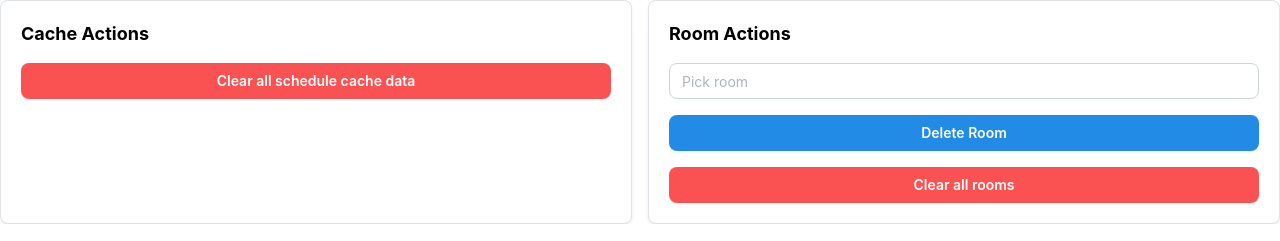
AdminDashboard › logged in - check clear buttons
The image size is (1280, 241).
Expected: the heading "Cache Actions" is shown, 21,23 -> 149,44
Click the button "Clear all schedule cache data": (316, 81) 21,63 -> 611,99
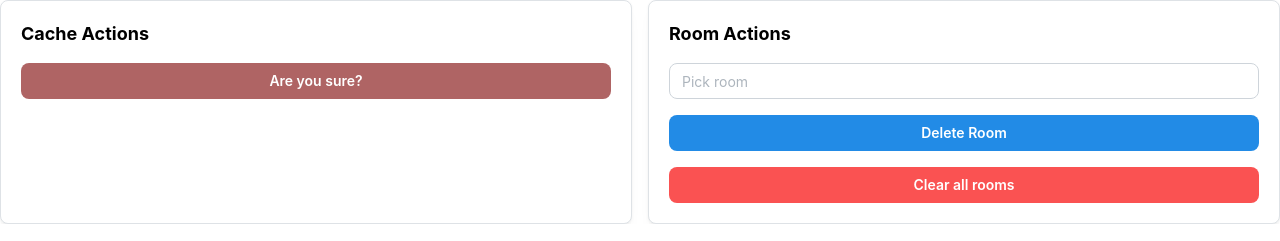
Expected: the button "Are you sure?" is shown
Click the button "Are you sure?": (316, 81) 21,63 -> 611,99
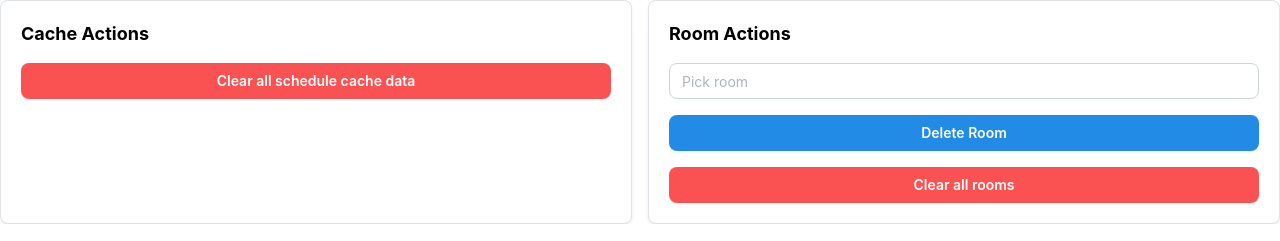
Expected: the button "Clear all schedule cache data" is shown, 21,63 -> 611,99
Click the button "Clear all rooms": (964, 185) 669,167 -> 1259,203
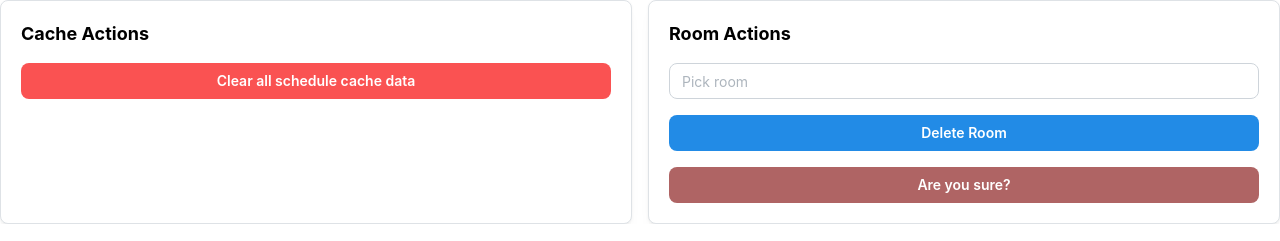
Expected: the button "Are you sure?" is shown
Click the button "Are you sure?": (964, 185) 669,167 -> 1259,203
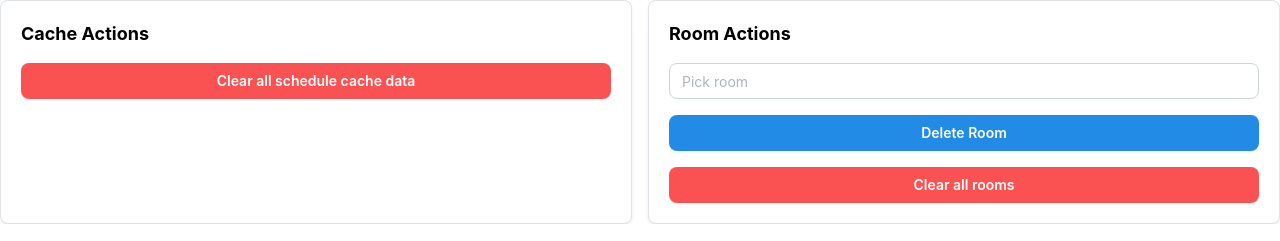
Expected: the button "Clear all rooms" is shown, 669,167 -> 1259,203
